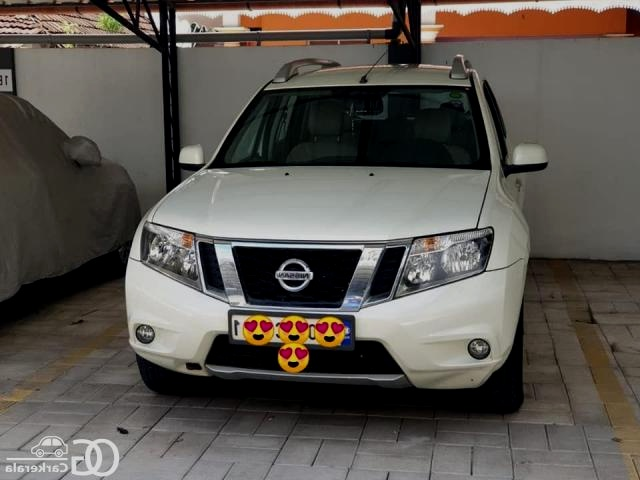car: (107, 40, 559, 440)
